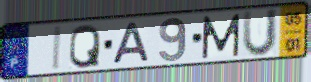9: (157, 16, 188, 63)
A: (111, 21, 152, 66)
I: (51, 24, 64, 72)
M: (201, 12, 242, 61)
Q: (68, 22, 102, 70)
U: (241, 7, 280, 59)
